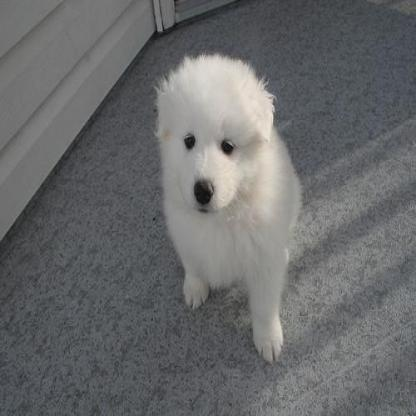Samoyed: (155, 49, 301, 364)
